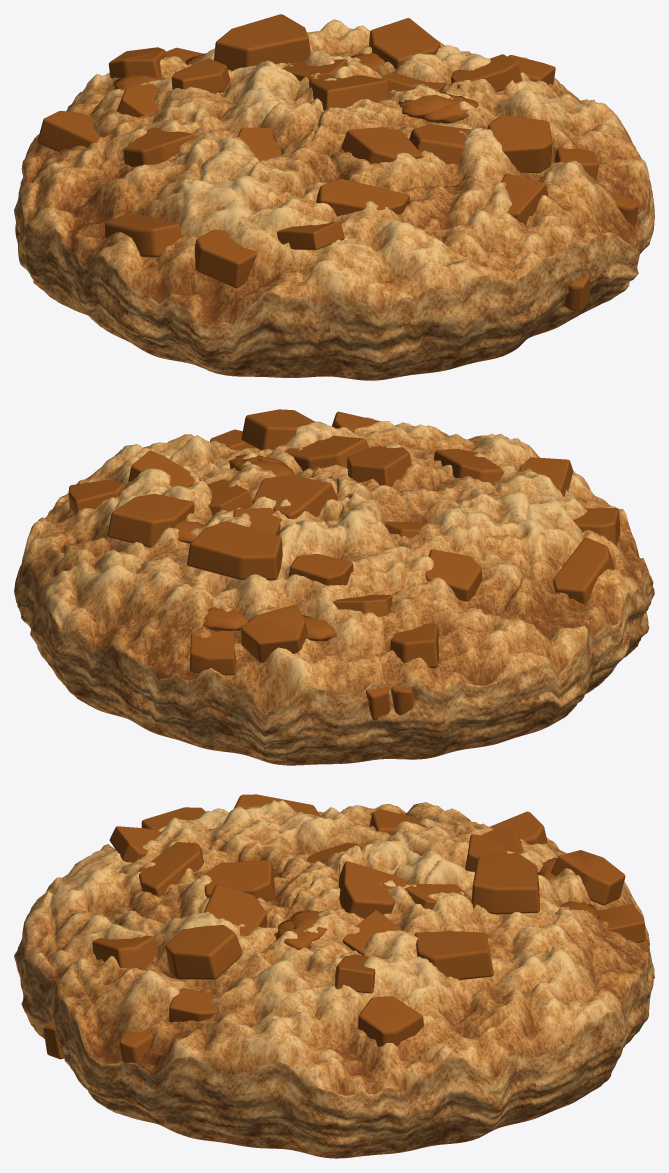
Rendered from tem_salted-caramel.glb.
3 views of the same model, one above another, from view 1: azimuth 30°, elevation 25°; view 2: azimuth 150°, elevation 25°; view 3: azimuth 270°, elevation 25° (orthographic). The views are drawn at different scales.
Parts seen in each view (by area): view 1: Baked porous crumb, Dark chocolate; view 2: Baked porous crumb, Dark chocolate; view 3: Baked porous crumb, Dark chocolate.
Part boxes in pixels (bbox=[...]): Baked porous crumb: bbox=[14, 19, 654, 380]; Dark chocolate: bbox=[34, 14, 638, 311]; Baked porous crumb: bbox=[14, 417, 654, 765]; Dark chocolate: bbox=[68, 409, 620, 720]; Baked porous crumb: bbox=[14, 800, 654, 1158]; Dark chocolate: bbox=[43, 794, 645, 1062].
Bounding box in the file's own units: 0.093 × 0.0274 × 0.0903.
Materials: 3 (2 with a texture image).
